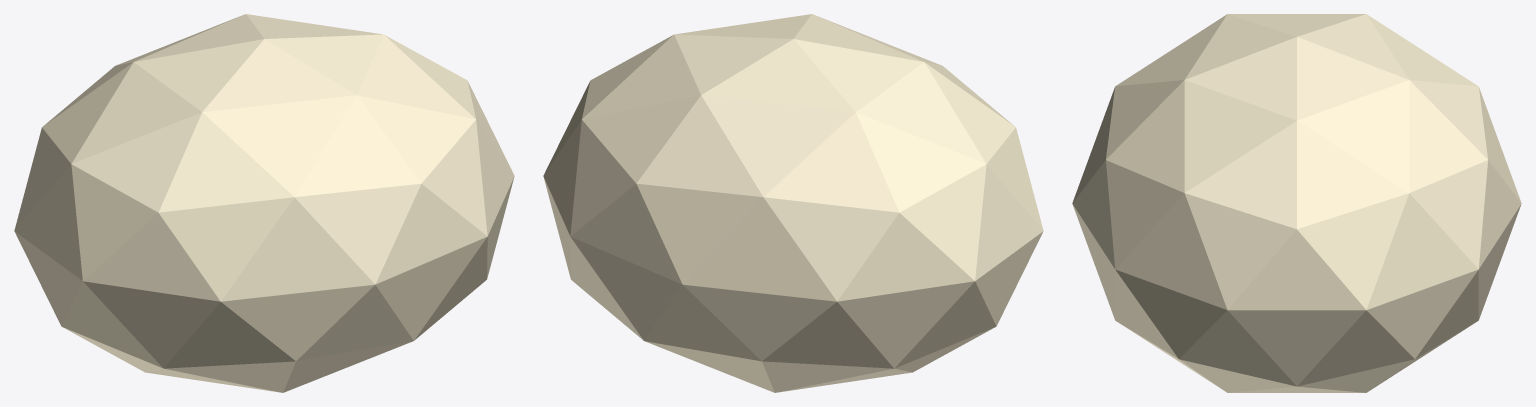
File: bait_dough.glb
The picture shows the model from 3 angles, left to right: view 1: azimuth 30°, elevation 25°; view 2: azimuth 150°, elevation 25°; view 3: azimuth 270°, elevation 25°; orthographic projection.
Parts seen in each view (by area): view 1: bait_dough; view 2: bait_dough; view 3: bait_dough.
Boxes of the visible parts, x1,y1,x2,y2 form: bait_dough: (14,14,514,392); bait_dough: (543,14,1043,392); bait_dough: (1072,14,1521,392).
Size of the model in its own units: 0.2473 by 0.18 by 0.22.
